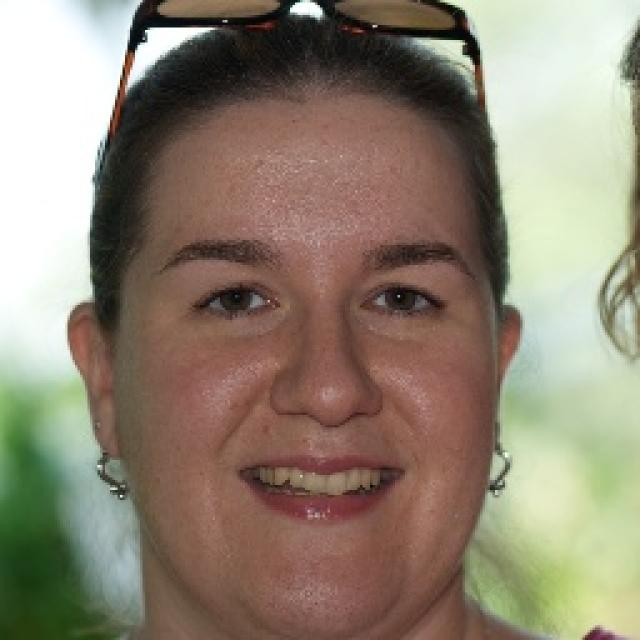earlobe: (91, 408, 123, 459)
eye: (364, 283, 444, 318), (199, 284, 278, 318)
nose: (274, 406, 374, 443)
wholeear: (67, 299, 124, 459), (495, 301, 524, 404)
